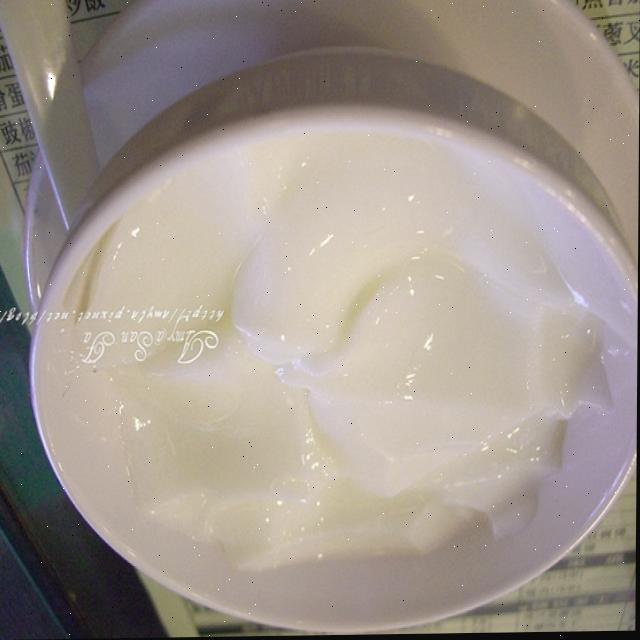米饭主食: (0, 8, 615, 617)
